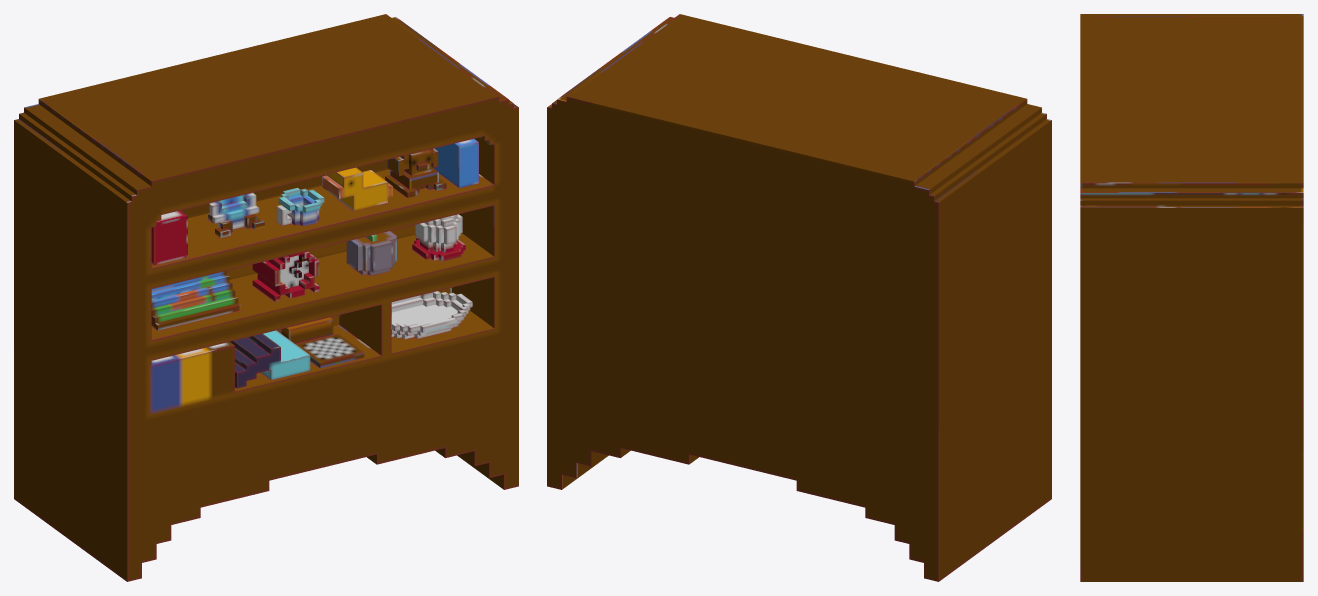
Rendered from bookshelf_2.obj.
3 views of the same model, side by side, from view 1: azimuth 30°, elevation 25°; view 2: azimuth 150°, elevation 25°; view 3: azimuth 270°, elevation 25° (orthographic).
Parts seen in each view (by area): view 1: bookshelf_2; view 2: bookshelf_2; view 3: bookshelf_2.
Part boxes in pixels (x1,y1,x2,y2): bookshelf_2: (14, 14, 518, 581); bookshelf_2: (547, 14, 1051, 581); bookshelf_2: (1080, 14, 1303, 581).
Bounding box in the file's own units: 8 × 7.7 × 4.
1 material, 1 textured.
